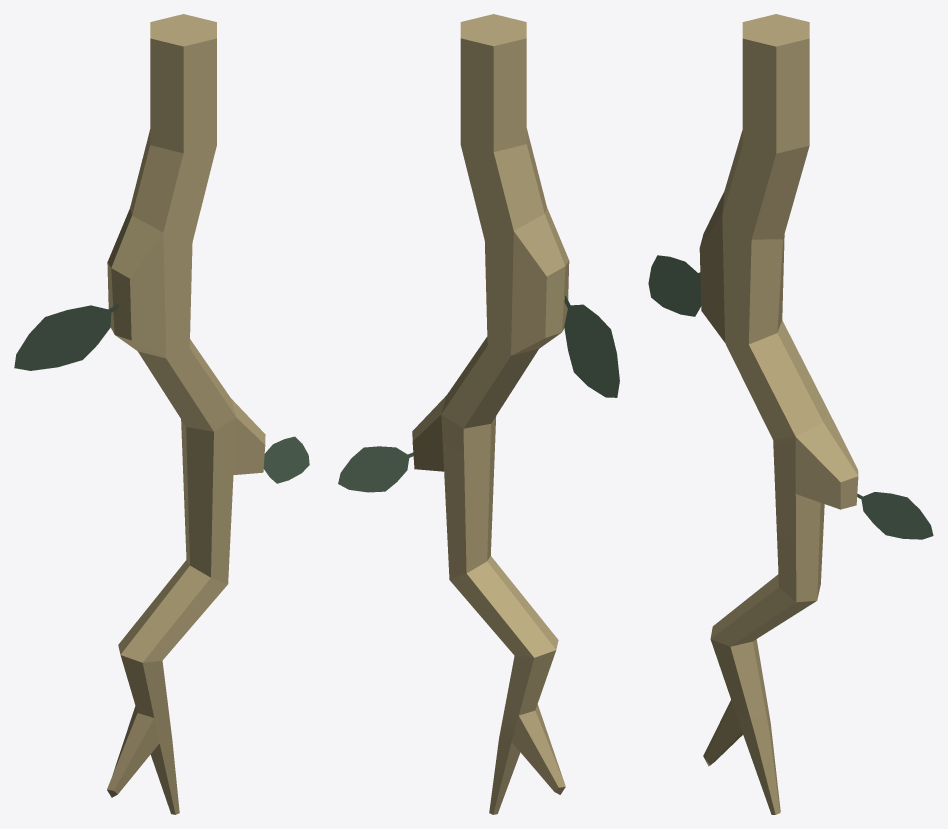
File: SM_Twig.fbx
The picture shows the model from 3 angles, left to right: view 1: azimuth 30°, elevation 25°; view 2: azimuth 150°, elevation 25°; view 3: azimuth 330°, elevation 25°; orthographic projection.
Visible parts, largest first — view 1: pCylinder3, pCube56, pCube57; view 2: pCylinder3, pCube56, pCube57; view 3: pCylinder3, pCube56, pCube57.
Boxes of the visible parts, left/top/right/bottom form: pCylinder3: left=107, top=14, right=265, bottom=814; pCube56: left=14, top=303, right=118, bottom=370; pCube57: left=263, top=436, right=309, bottom=483; pCylinder3: left=412, top=14, right=569, bottom=814; pCube56: left=564, top=296, right=619, bottom=397; pCube57: left=338, top=446, right=413, bottom=492; pCylinder3: left=699, top=14, right=858, bottom=814; pCube56: left=648, top=255, right=701, bottom=316; pCube57: left=857, top=492, right=933, bottom=539.
Bounding box in the file's own units: 8.65 × 22.46 × 2.02.
